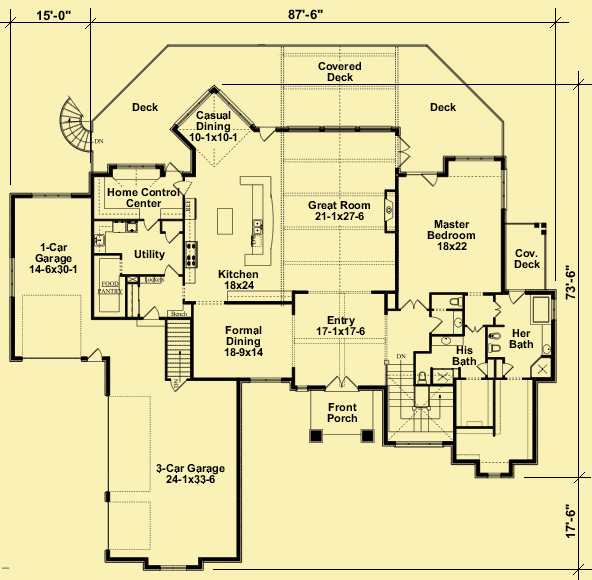door: (324, 374, 362, 394), (395, 135, 410, 169), (398, 297, 426, 313), (141, 215, 159, 233), (143, 305, 160, 323), (506, 289, 525, 304)
kitchen_bar: (237, 173, 276, 268)
large_sink: (448, 292, 468, 309), (486, 341, 504, 357), (413, 368, 430, 384)
small_sink: (430, 332, 464, 346), (451, 309, 463, 334)
stairs: (389, 361, 454, 445), (57, 95, 102, 154), (161, 317, 195, 392)
tub: (530, 294, 552, 325)
windows: (282, 124, 391, 134), (111, 159, 157, 171), (450, 153, 497, 164), (29, 190, 71, 201), (498, 166, 508, 211), (7, 255, 16, 299)
